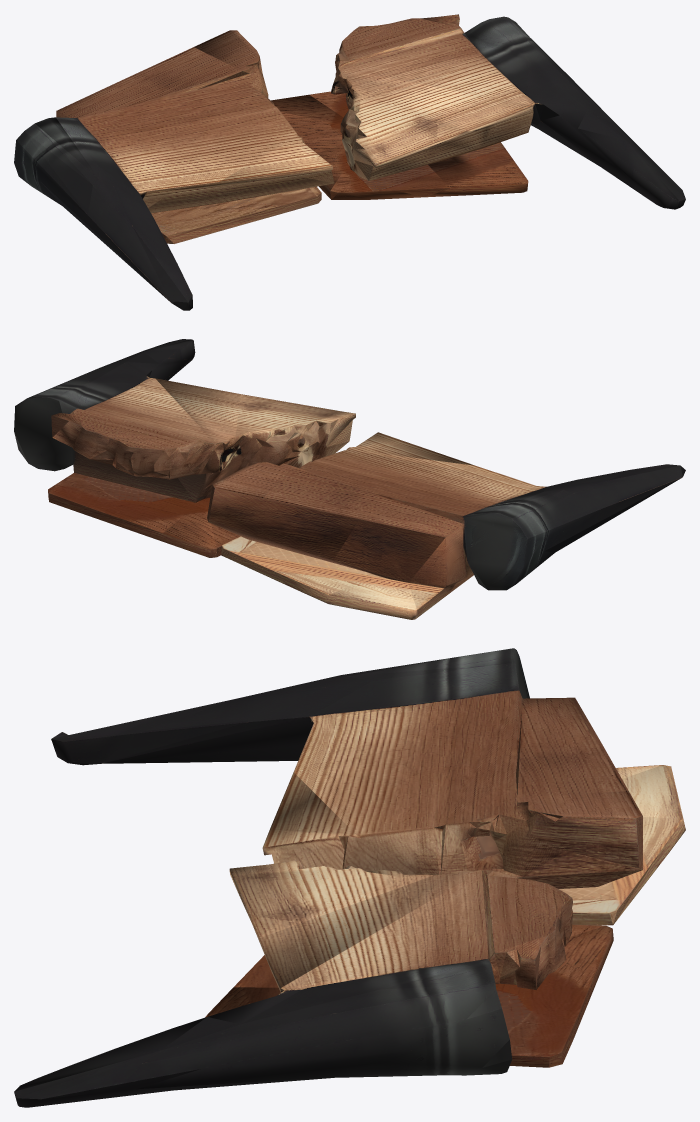
The model's file is IT_HeavyDebris_BrokenFurnitureDebris.fbx.
The picture shows the model from 3 angles, top to bottom: view 1: azimuth 30°, elevation 25°; view 2: azimuth 150°, elevation 25°; view 3: azimuth 270°, elevation 25°; orthographic projection. The views are drawn at different scales.
Visible parts, largest first — view 1: Mesh_0; view 2: Mesh_0; view 3: Mesh_0.
Boxes of the visible parts, x1,y1,x2,y2 form: Mesh_0: [14, 14, 685, 310]; Mesh_0: [14, 339, 685, 619]; Mesh_0: [14, 648, 685, 1107].
Bounding box in the file's own units: 190 × 30.79 × 149.
Materials: 1 (1 with a texture image).
